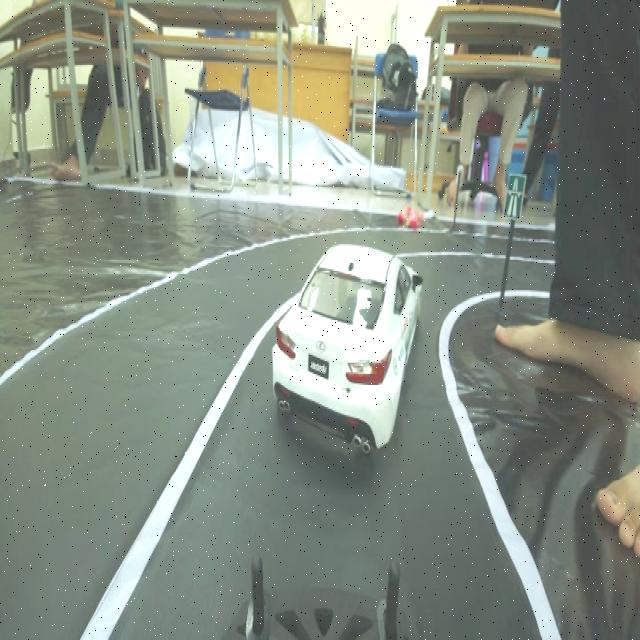car: (274, 222, 420, 454)
highway_entry: (501, 168, 530, 225)
